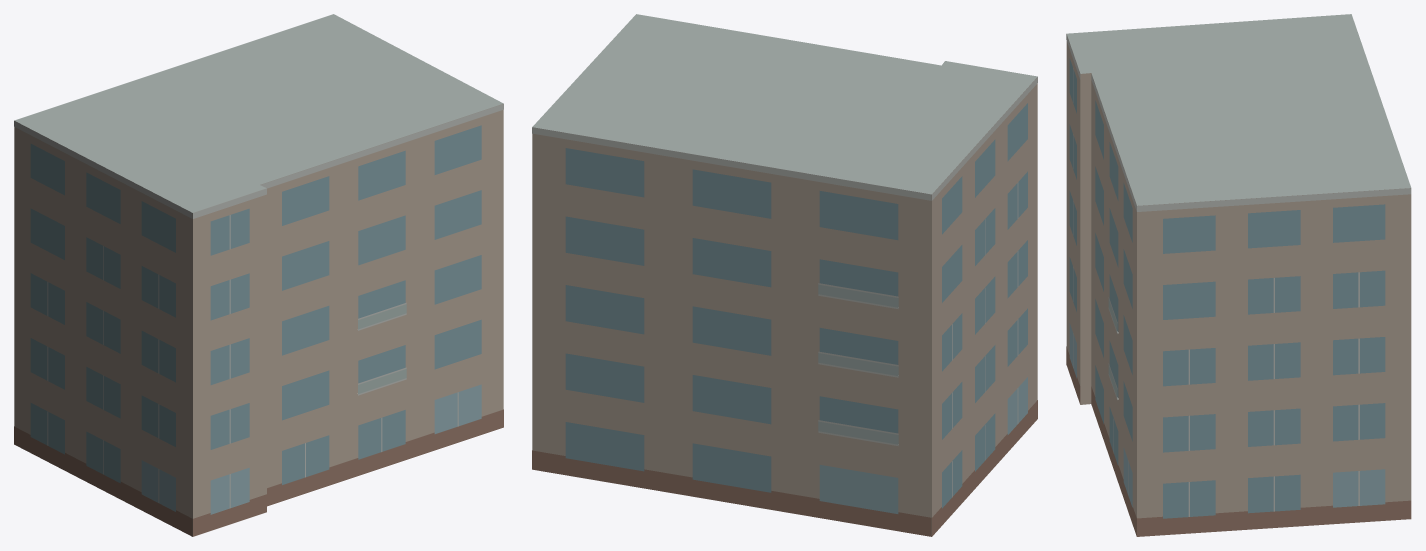
Rendered from survey-upis-32581282.glb.
3 views of the same model, side by side, from view 1: azimuth 30°, elevation 25°; view 2: azimuth 150°, elevation 25°; view 3: azimuth 270°, elevation 25° (orthographic). The views are drawn at different scales.
Visible parts, largest first — view 1: survey-upis-32581282.tmp; view 2: survey-upis-32581282.tmp; view 3: survey-upis-32581282.tmp.
Boxes of the visible parts, box(x1,y1,x2,y2) form: survey-upis-32581282.tmp: box(14, 14, 503, 536); survey-upis-32581282.tmp: box(532, 14, 1037, 536); survey-upis-32581282.tmp: box(1066, 14, 1411, 536).
Bounding box in the file's own units: 16.04 × 12.9 × 12.19.
